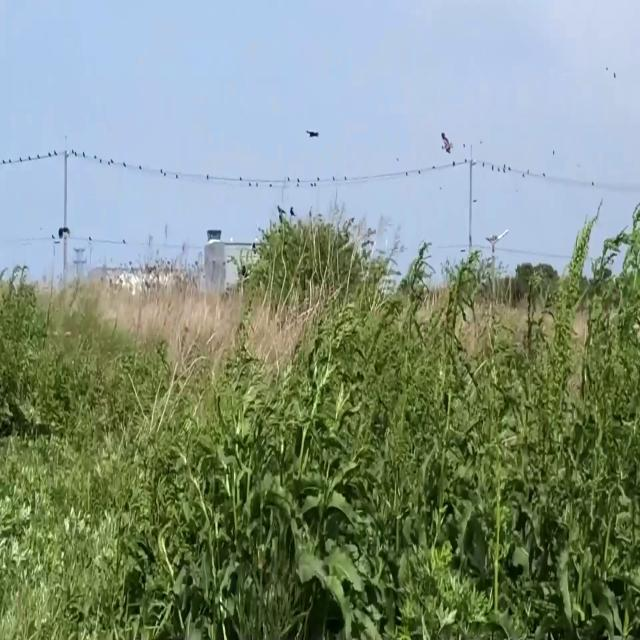bird: (305, 118, 319, 148), (440, 125, 452, 158), (58, 218, 68, 245)
